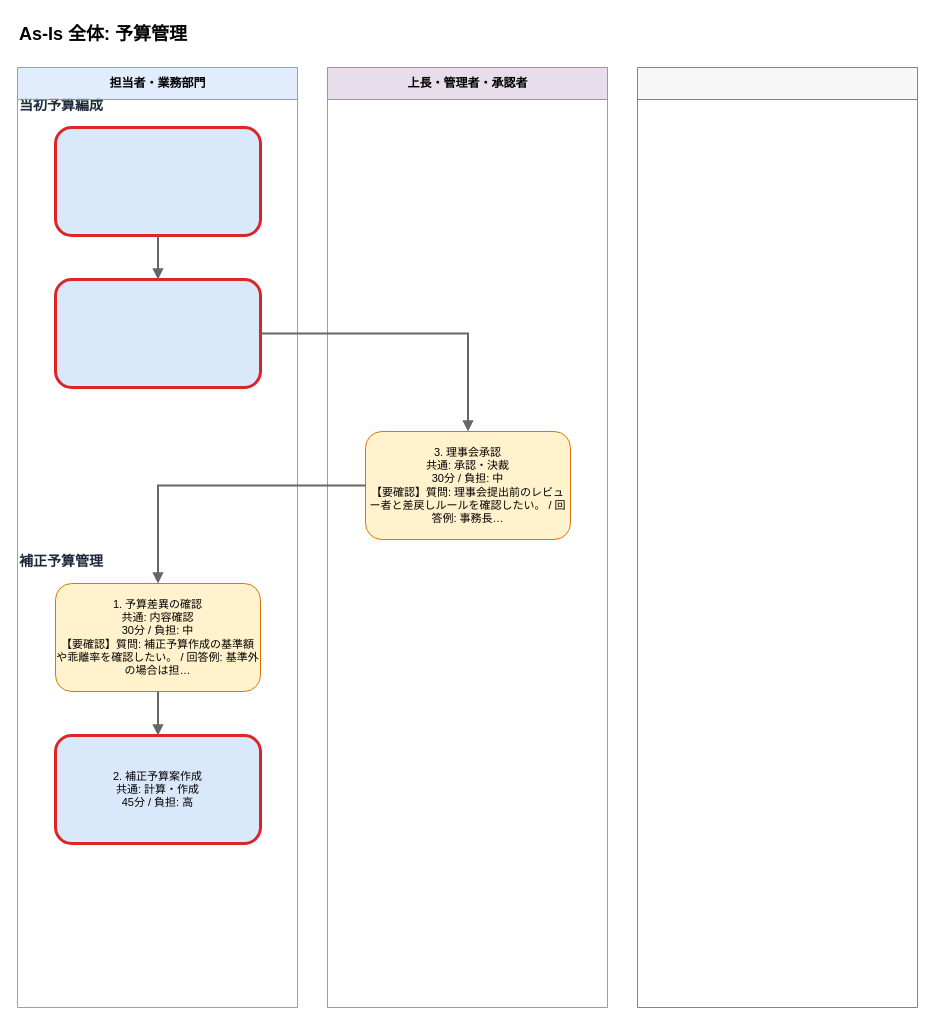
Some shapes in this 935 by 1025 pixel diagram are drawn without their labels. The shapes that lost their labels are listed below. From the top down, each one's centre as x and y in pixels, then its label:
At point (158, 181): "1. 事業計画情報の収集 共通: 情報収集・照合 45分 / 負担: 高".
At point (158, 333): "2. 資金収支予算案作成 共通: 計算・作成 60分 / 負担: 高".
At point (777, 537): "システム".
